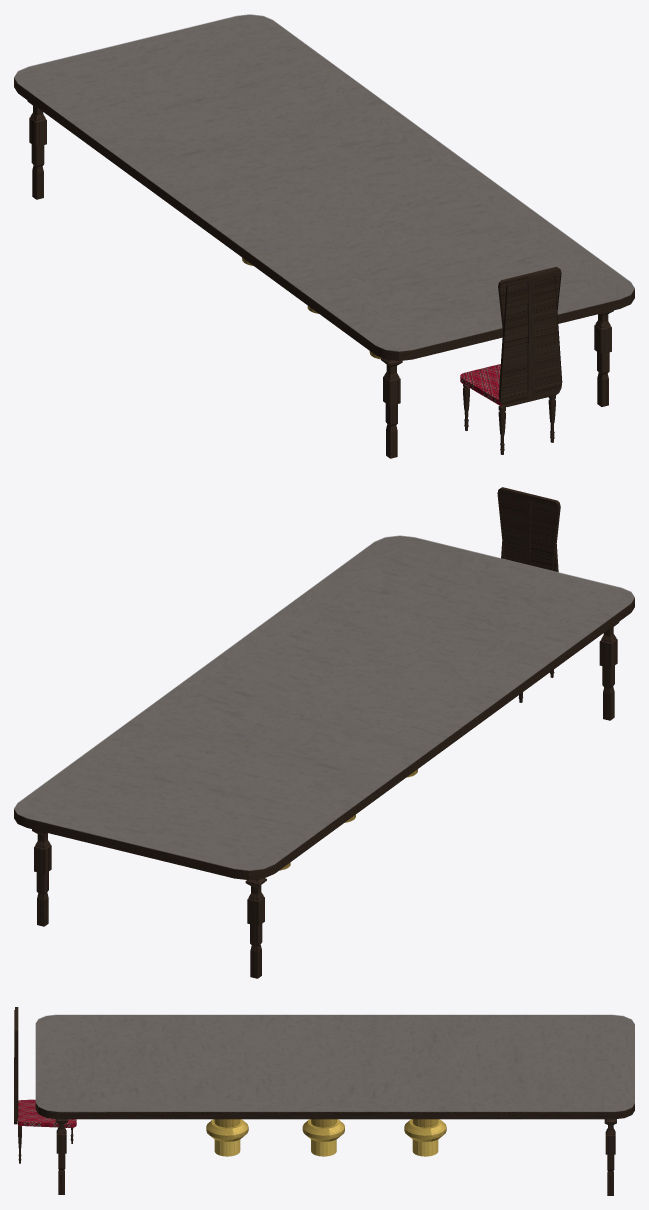
File: dININNING TABEL.fbx
3 views of the same model, one above another, from view 1: azimuth 30°, elevation 25°; view 2: azimuth 150°, elevation 25°; view 3: azimuth 270°, elevation 25° (orthographic). The views are drawn at different scales.
Visible parts, largest first — view 1: pCube1299, pCube1300, pCube1311, pCube1302, pCube1301, pCube1303, pCube1312, pCube1313; view 2: pCube1299, pCube1300, pCube1313, pCube1303, pCube1304, pCube1302; view 3: pCube1299, pCube1300, pCylinder242, pCylinder241, pCylinder240, pCube1312, pCube1304, pCube1301, pCube1313.
Part boxes in pixels (x1,y1,x2,y2): pCube1299: [14, 15, 634, 360]; pCube1300: [14, 14, 634, 351]; pCube1311: [498, 270, 562, 406]; pCube1302: [381, 358, 402, 458]; pCube1301: [594, 310, 613, 406]; pCube1303: [27, 100, 46, 199]; pCube1312: [460, 364, 502, 405]; pCube1313: [498, 266, 561, 393]; pCube1299: [14, 536, 634, 879]; pCube1300: [14, 535, 634, 870]; pCube1313: [497, 487, 560, 570]; pCube1303: [245, 878, 266, 978]; pCube1304: [32, 829, 51, 926]; pCube1302: [599, 622, 619, 720]; pCube1299: [35, 1015, 634, 1119]; pCube1300: [35, 1014, 634, 1112]; pCylinder242: [404, 1119, 446, 1156]; pCylinder241: [206, 1119, 248, 1156]; pCylinder240: [302, 1119, 344, 1156]; pCube1312: [17, 1099, 76, 1127]; pCube1304: [604, 1119, 616, 1195]; pCube1301: [55, 1119, 67, 1194]; pCube1313: [15, 1007, 18, 1120].
Bounding box in the file's own units: 546 × 359 × 1475.
